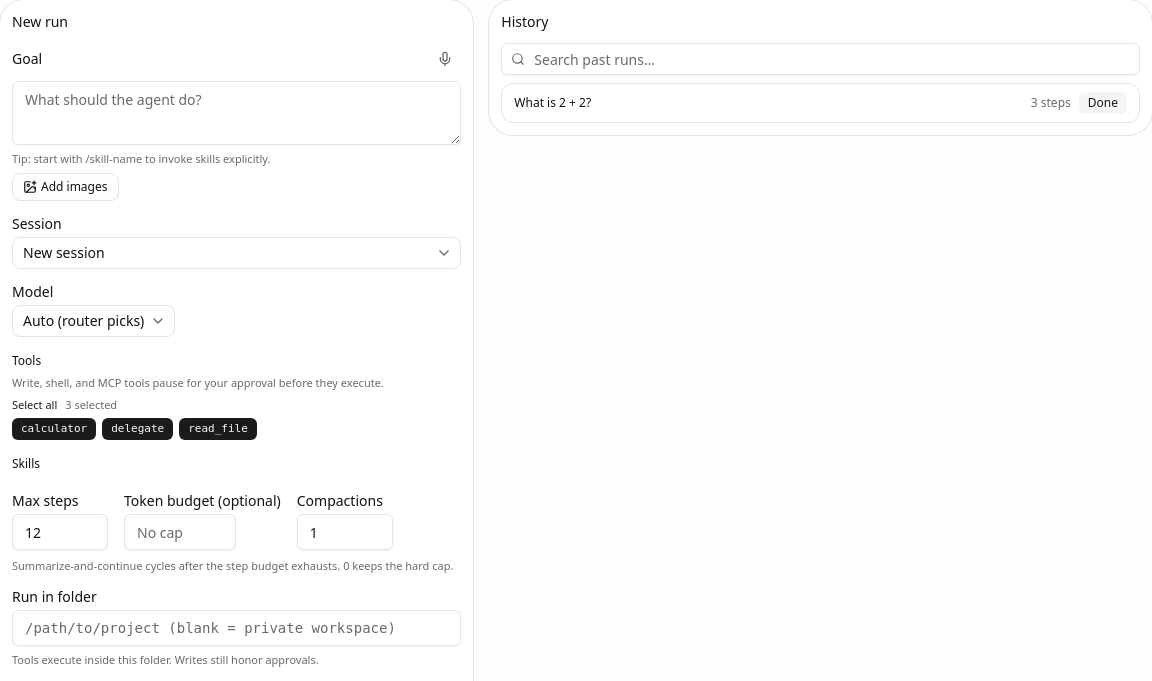
Test: renders verification check steps with pass/fail
Click the button "What is 2 + 2? 3 steps Done" at (553, 103), box top-left (501, 83), bottom-right (1140, 123)
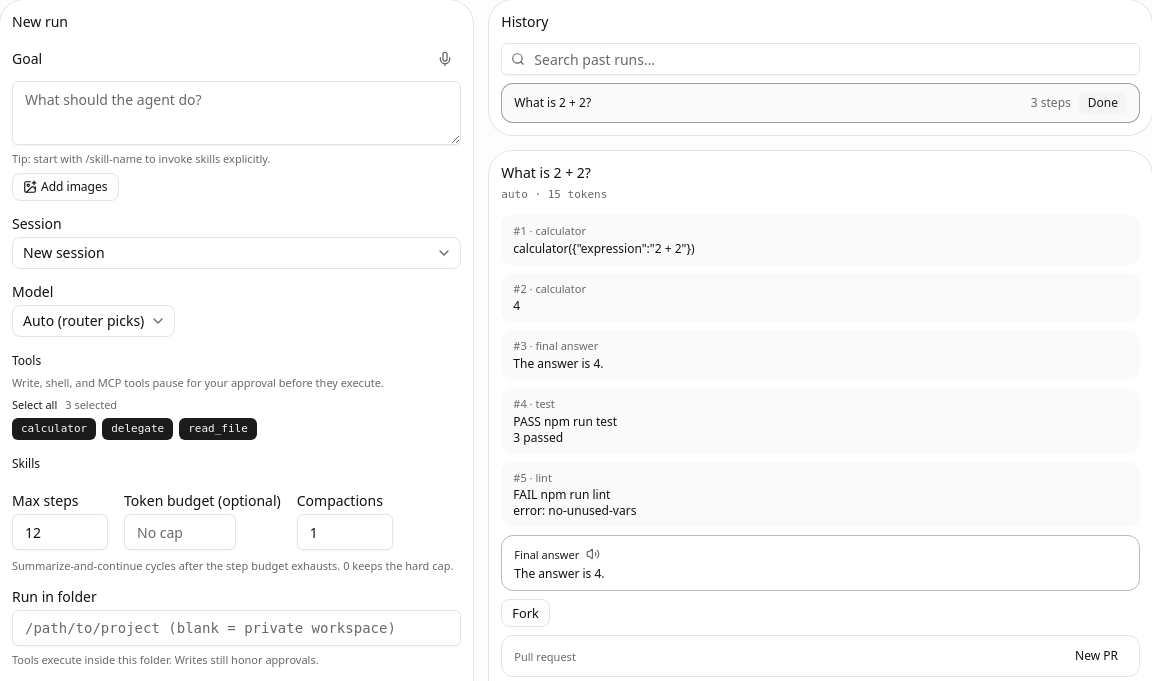
Check: the text "PASS npm run test" is shown, box top-left (513, 413), bottom-right (617, 446)
Check: the text "FAIL npm run lint" is shown, box top-left (513, 486), bottom-right (636, 520)
